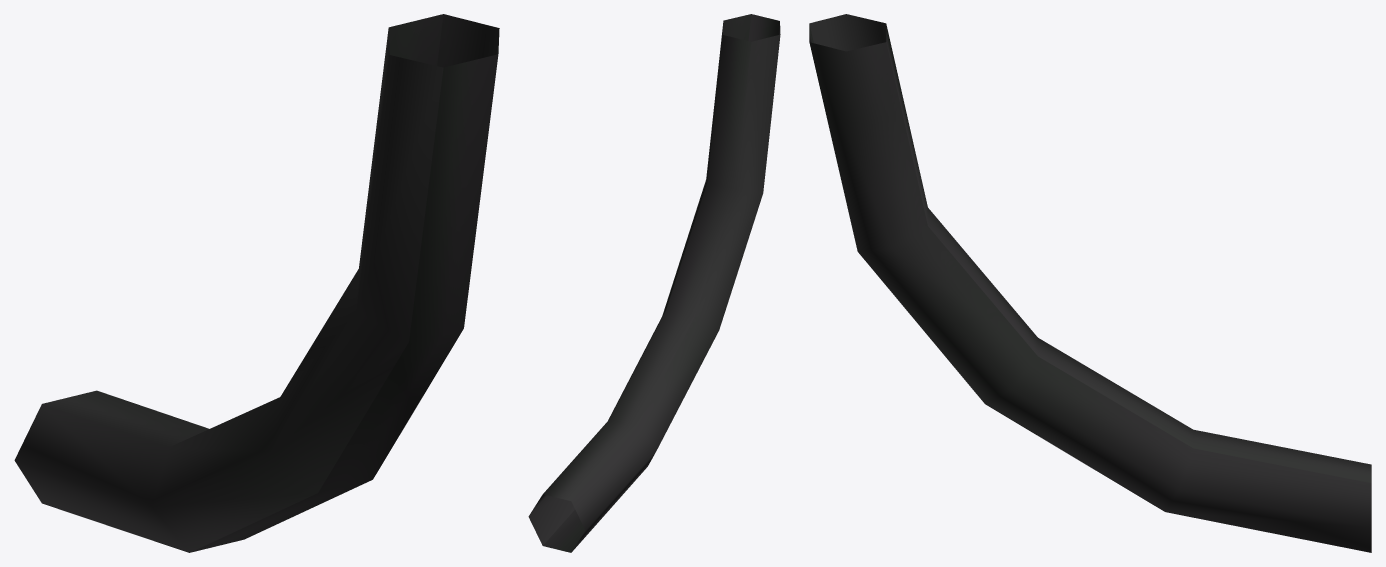
File: electrical_bend_tiny.dae
3 views of the same model, side by side, from view 1: azimuth 30°, elevation 25°; view 2: azimuth 150°, elevation 25°; view 3: azimuth 270°, elevation 25° (orthographic). The views are drawn at different scales.
Visible parts, largest first — view 1: Mesh; view 2: Mesh; view 3: Mesh.
Boxes of the visible parts, box(x1,y1,x2,y2) form: Mesh: box(14, 14, 499, 552); Mesh: box(528, 14, 780, 552); Mesh: box(809, 14, 1371, 552).
Size of the model in its own units: 0.0169 by 0.1073 by 0.107.
